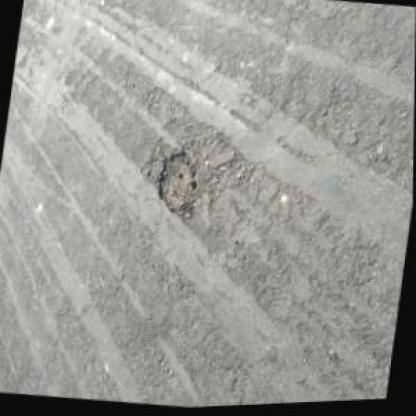pothole: (152, 147, 202, 220)
